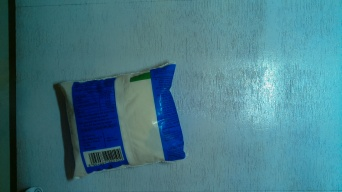m: (53, 61, 192, 180)
